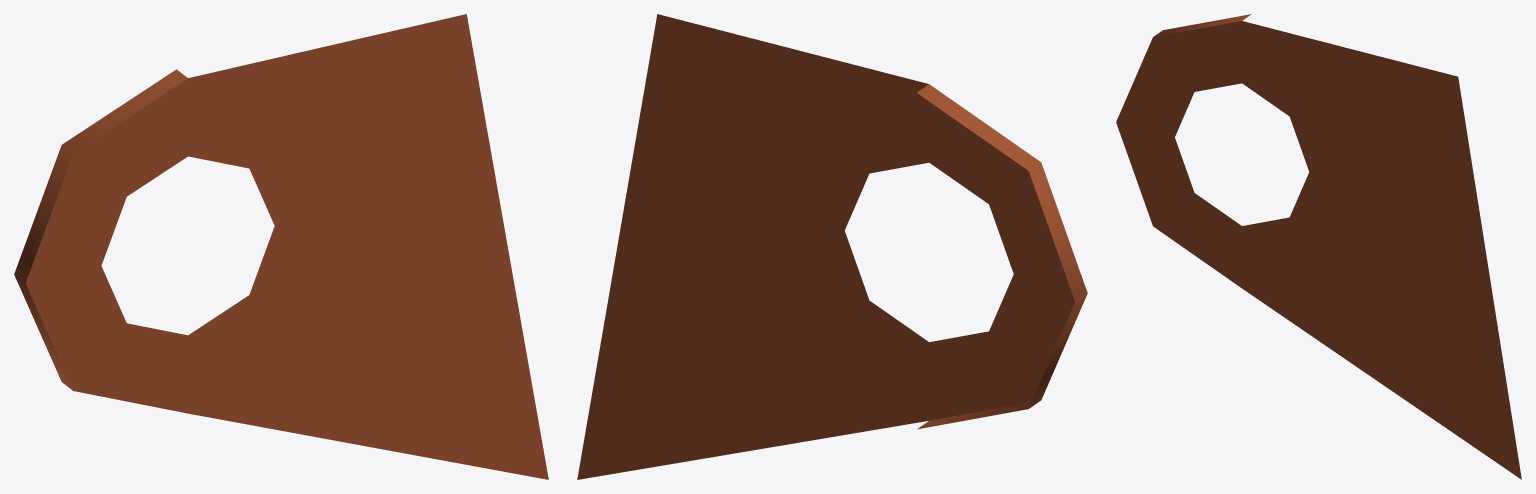
The model's file is original-5.obj.
3 views of the same model, side by side, from view 1: azimuth 30°, elevation 25°; view 2: azimuth 150°, elevation 25°; view 3: azimuth 330°, elevation 25° (orthographic). The views are drawn at different scales.
Visible parts, largest first — view 1: #ID33; view 2: #ID33; view 3: #ID33.
Part boxes in pixels (x1,y1,x2,y2): #ID33: (14, 14, 548, 479); #ID33: (577, 14, 1087, 479); #ID33: (1116, 14, 1521, 479).
Size of the model in its own units: 0.1507 by 0.1353 by 0.00977.
